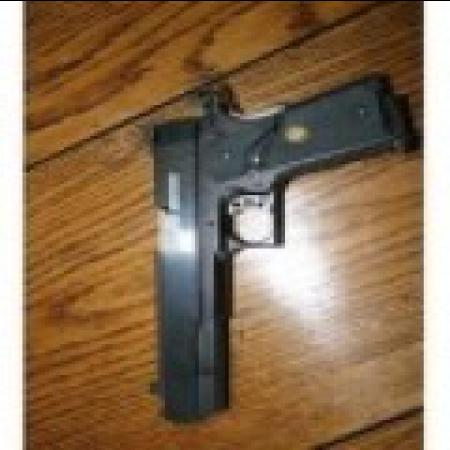Pistol: (138, 65, 413, 422)
